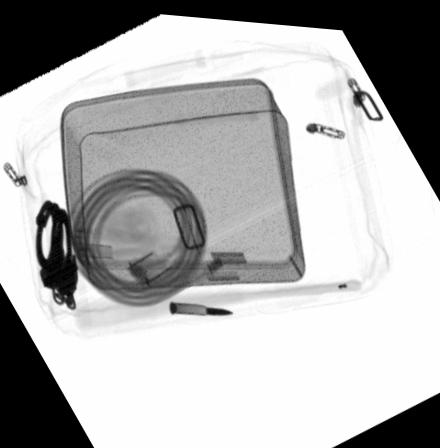Bullet: (167, 298, 234, 312)
HandCuffs: (32, 196, 78, 309)
